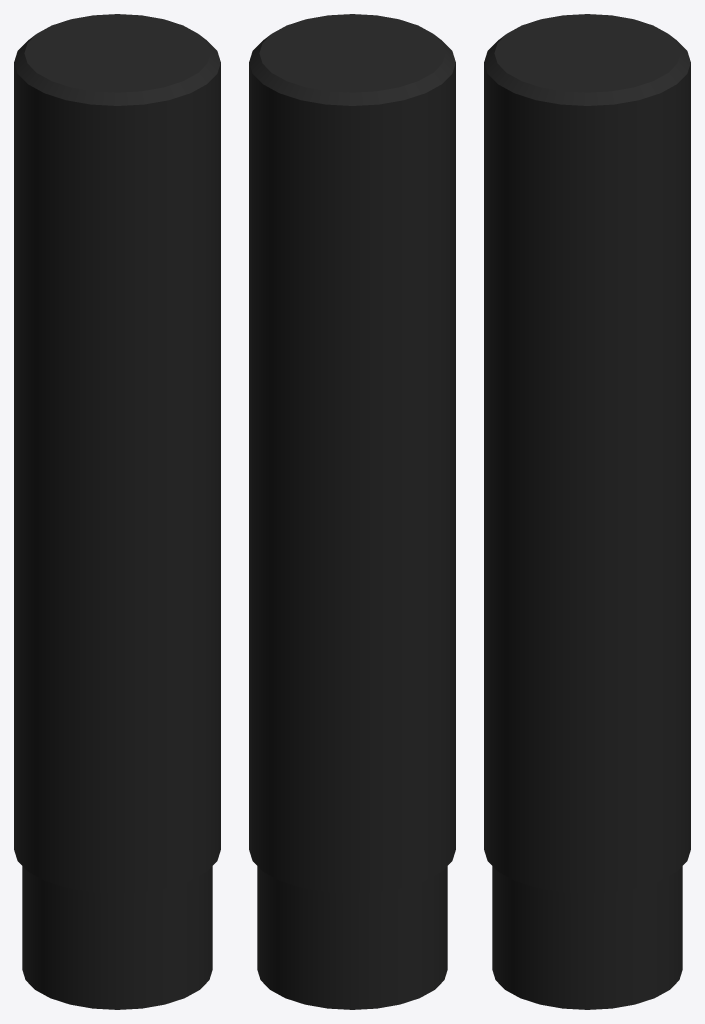
File: Arrow_SRB_0_2.obj
3 renders of one model, left to right at view 1: azimuth 30°, elevation 25°; view 2: azimuth 150°, elevation 25°; view 3: azimuth 270°, elevation 25°, orthographic.
Parts seen in each view (by area): view 1: Arrow_SRB_0_2; view 2: Arrow_SRB_0_2; view 3: Arrow_SRB_0_2.
Boxes of the visible parts, x1,y1,x2,y2 form: Arrow_SRB_0_2: (14, 14, 220, 1009); Arrow_SRB_0_2: (249, 14, 455, 1009); Arrow_SRB_0_2: (484, 14, 690, 1009).
Bounding box in the file's own units: 0.625 × 3.11 × 0.625.
